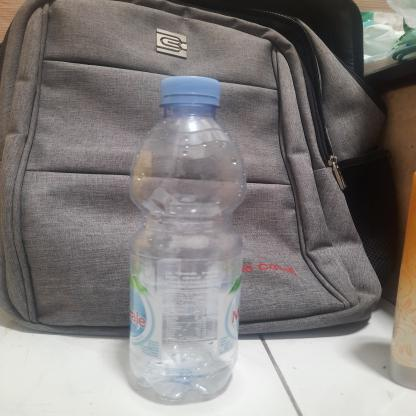bottle: (121, 73, 248, 406)
